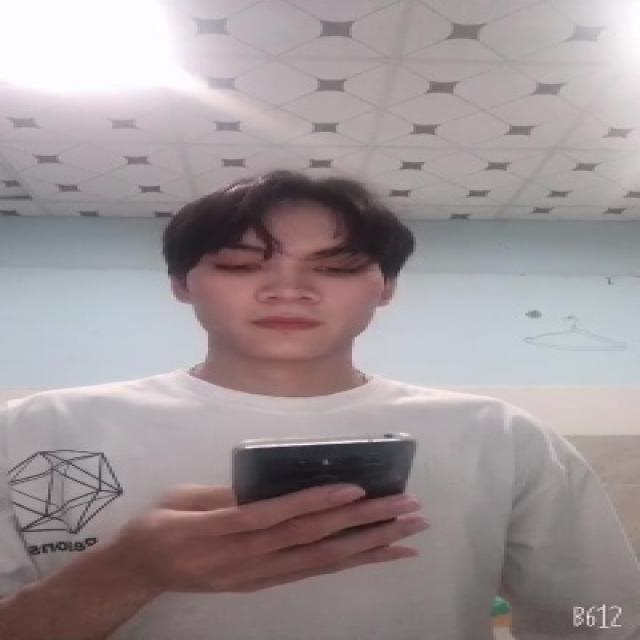Phone: (228, 427, 421, 510)
